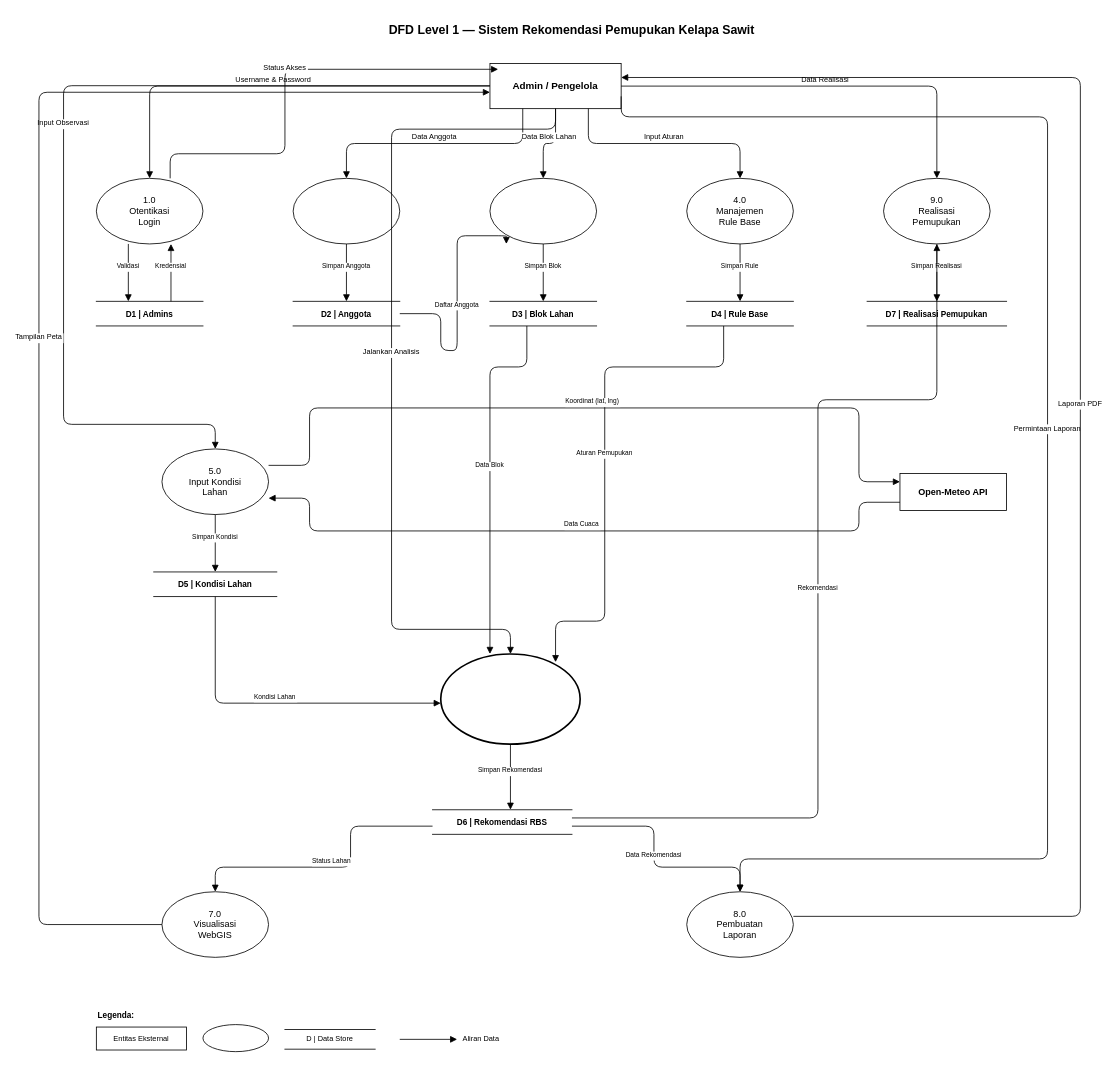
Some shapes in this 1118 by 1066 pixel diagram are drawn without their labels. Here are the shapes that lost their labels. From the top down, the box of each, then its label:
(292, 178, 400, 244): 2.0 Manajemen Anggota
(489, 178, 597, 244): 3.0 Manajemen Blok Lahan
(440, 653, 581, 745): 6.0 Analisis Rule-Based System
(202, 1024, 269, 1052): Proses
